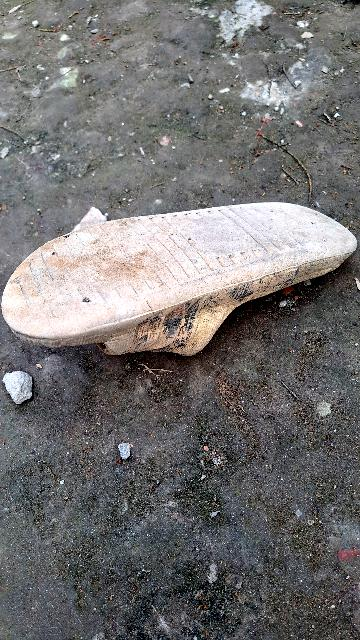sandal: (19, 153, 348, 354)
